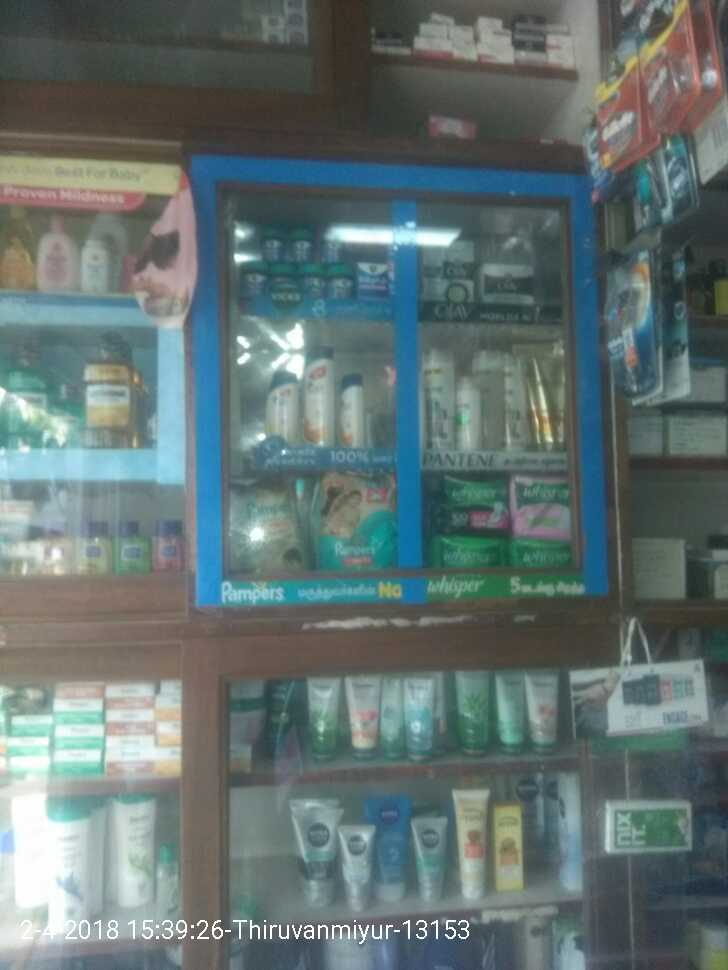vicks: (229, 219, 384, 296)
